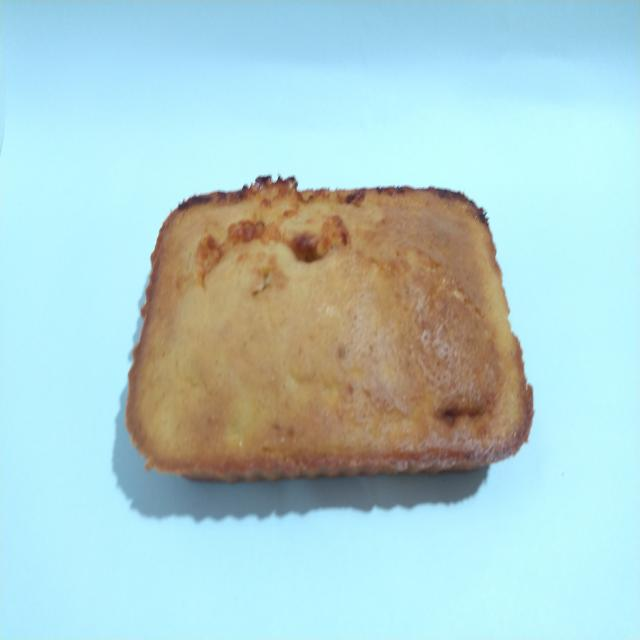Sopa: (118, 164, 540, 503)
